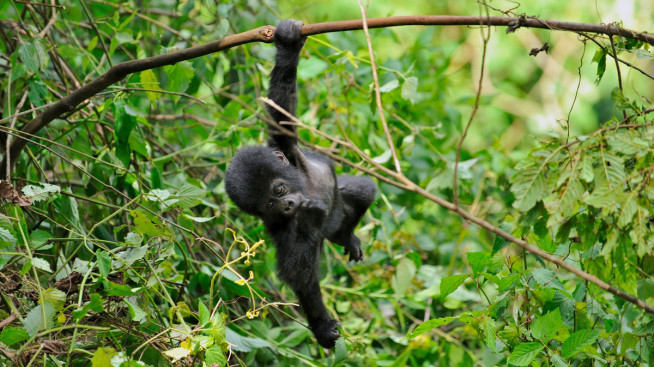Goriila: (200, 21, 417, 353)
